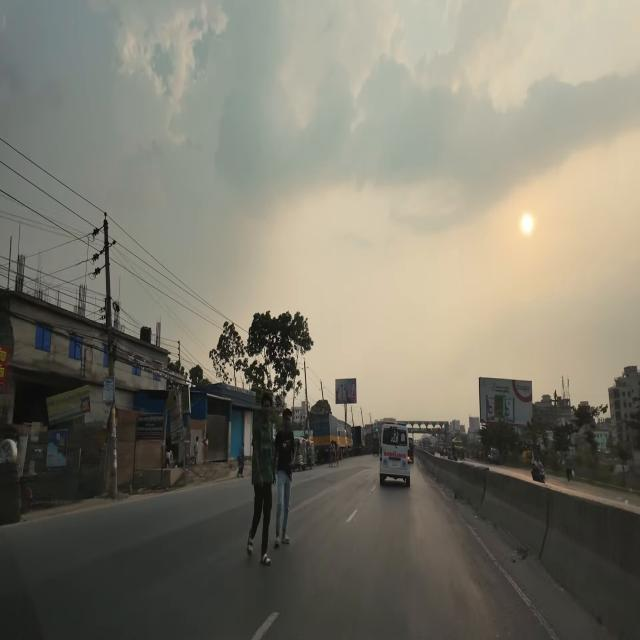person: (247, 392, 275, 566), (274, 408, 296, 548)
